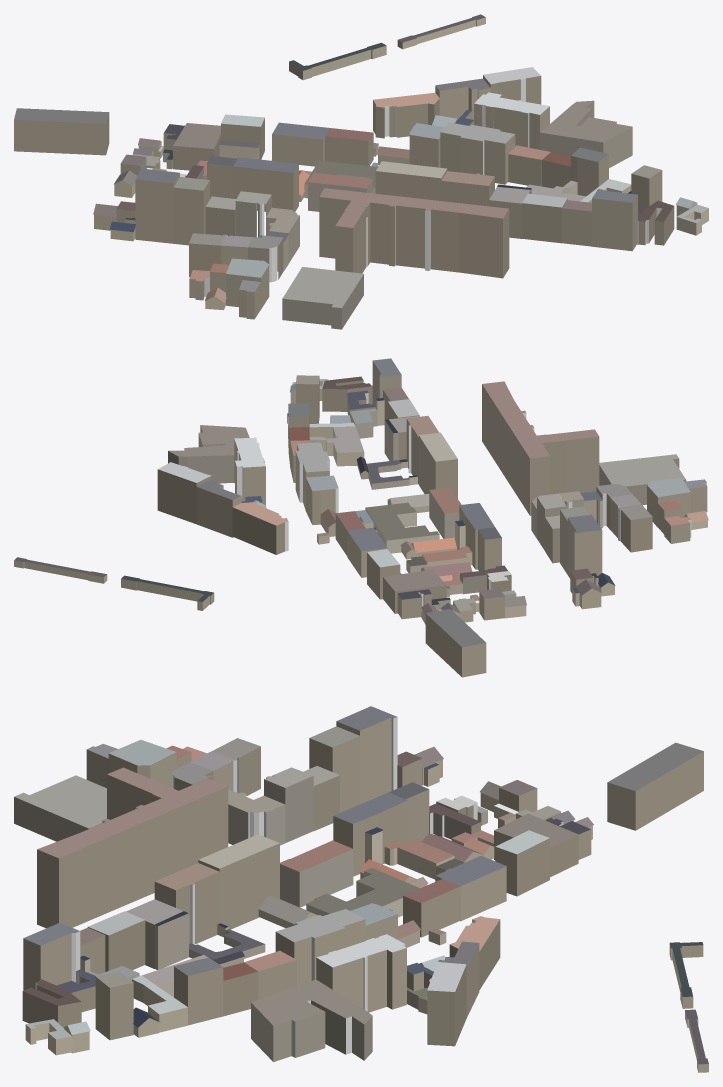
3 views of the same model, one above another, from view 1: azimuth 30°, elevation 25°; view 2: azimuth 150°, elevation 25°; view 3: azimuth 270°, elevation 25° (orthographic). The views are drawn at different scales.
Visible parts, largest first — view 1: tuile; view 2: tuile; view 3: tuile.
Boxes of the visible parts, box(x1,y1,x2,y2) form: tuile: box(14, 14, 708, 329); tuile: box(14, 358, 708, 677); tuile: box(14, 706, 708, 1072).
Size of the model in its own units: 278 by 33.13 by 265.
